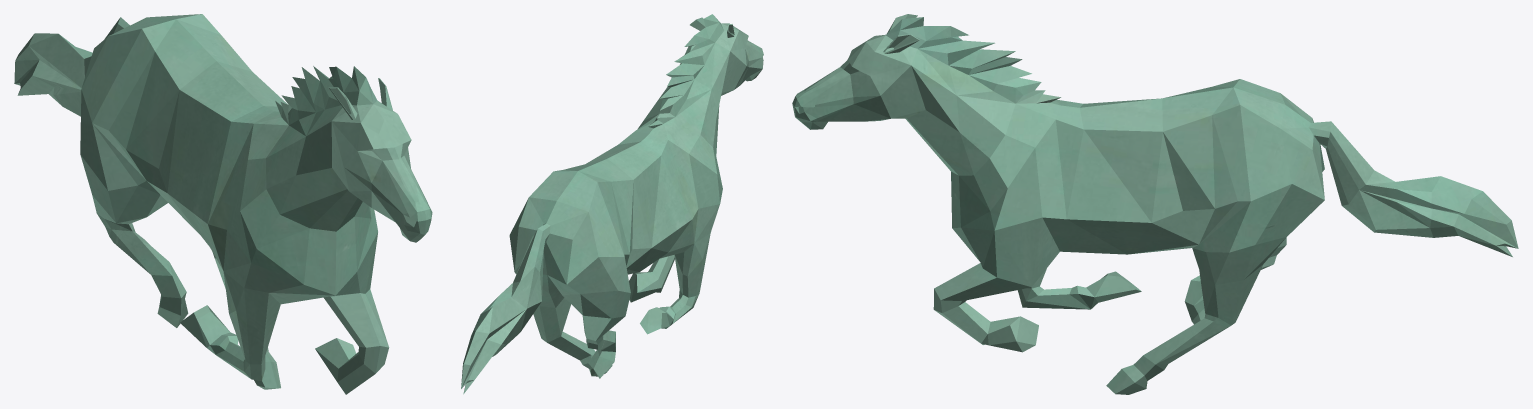
The model's file is horse.obj.
3 views of the same model, side by side, from view 1: azimuth 30°, elevation 25°; view 2: azimuth 150°, elevation 25°; view 3: azimuth 270°, elevation 25° (orthographic). The views are drawn at different scales.
Parts seen in each view (by area): view 1: obj1; view 2: obj1; view 3: obj1.
Boxes of the visible parts, x1,y1,x2,y2 form: obj1: (14, 14, 432, 394); obj1: (461, 14, 763, 394); obj1: (792, 14, 1518, 394).
Size of the model in its own units: 0.1608 by 0.4258 by 0.7652.
